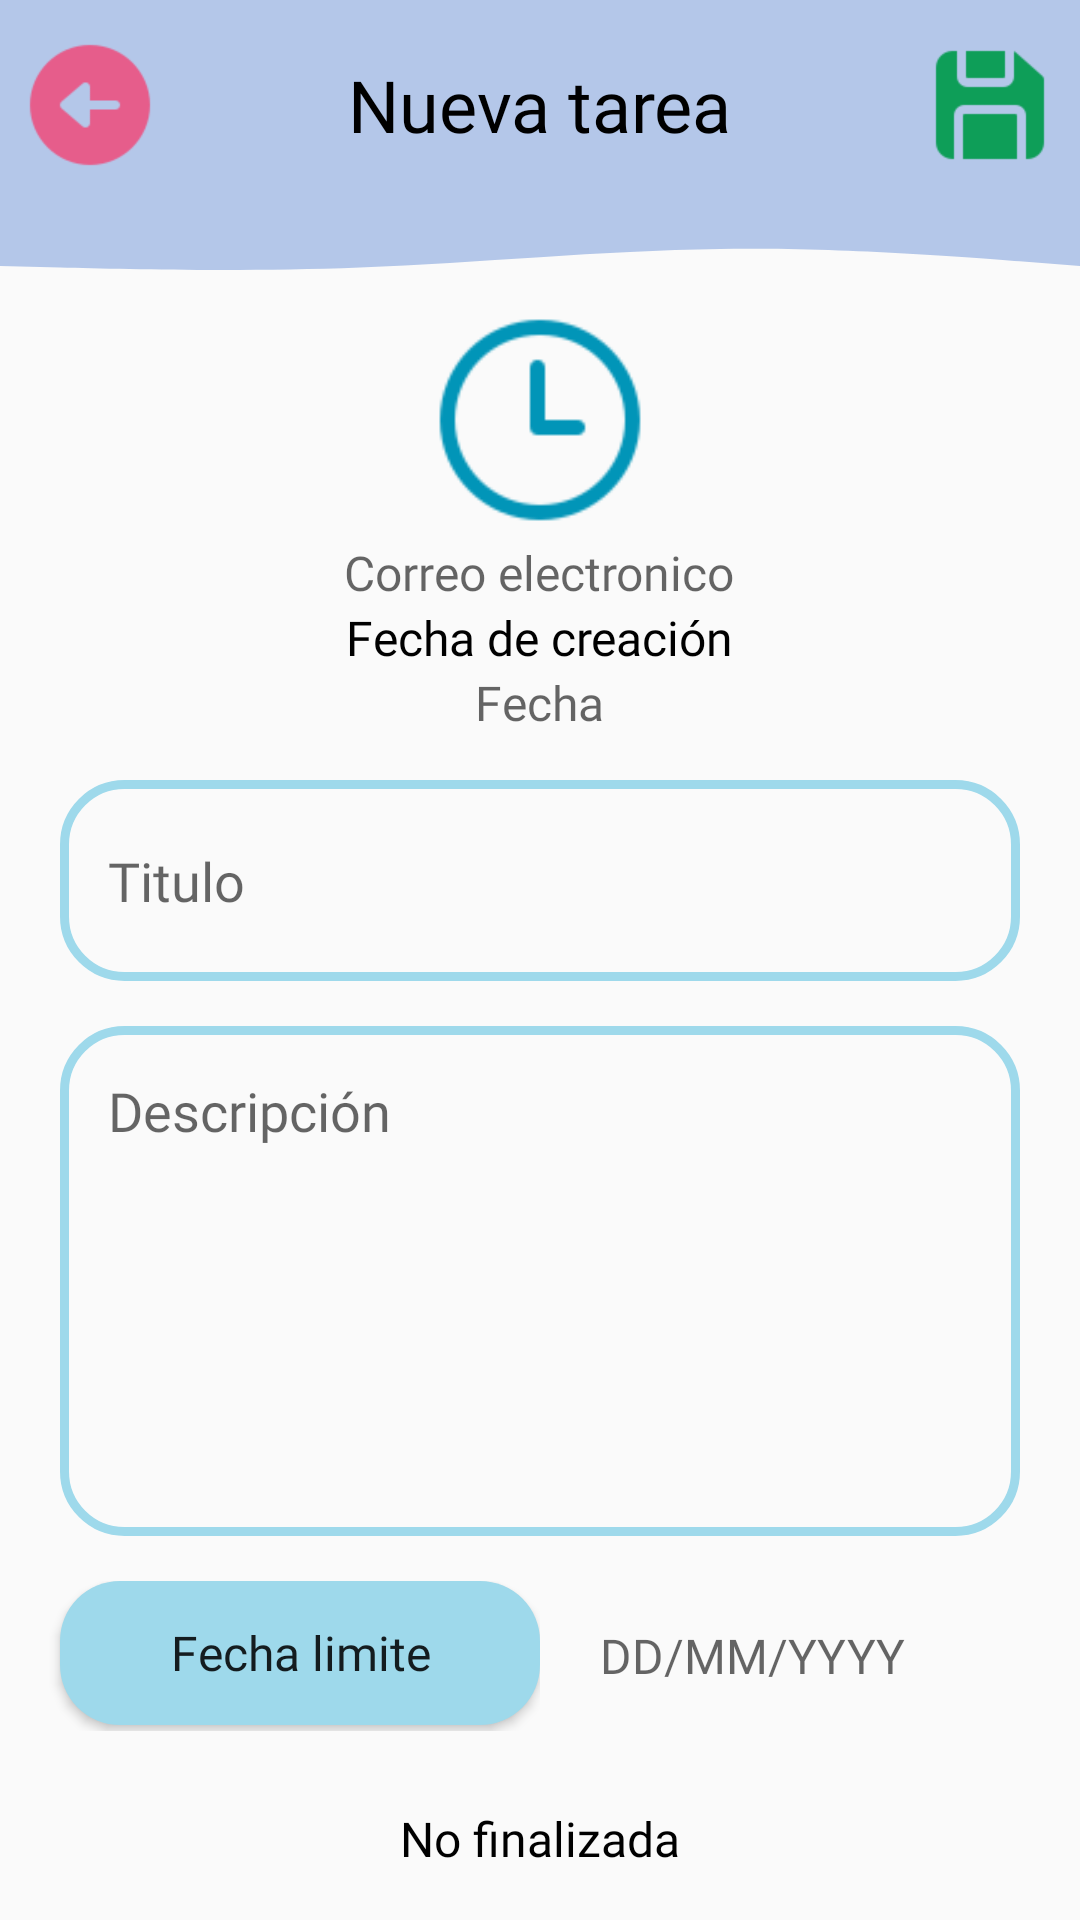

Screen size 1080x1920. Icon name, then its center in pixels as point (x, y):
guardar: point (990, 105)
salir: point (90, 105)
